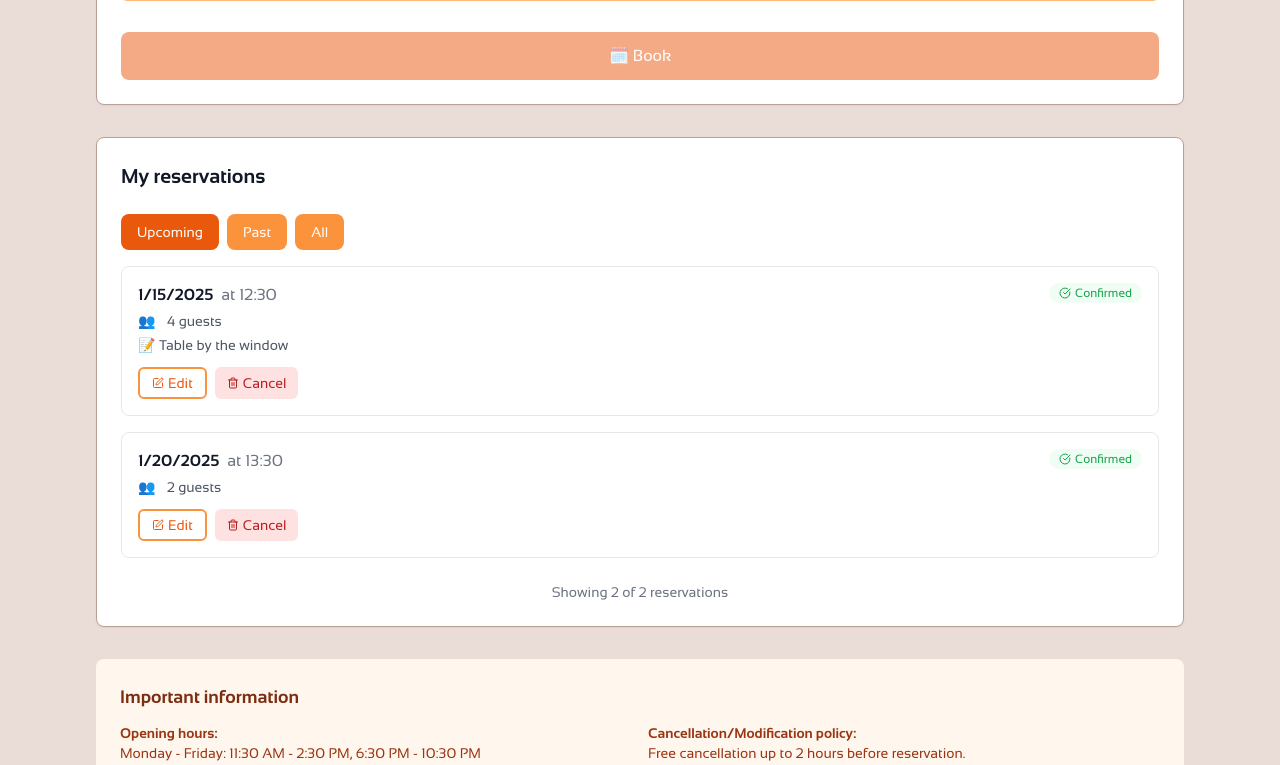
Test: Reservations Component › should cancel edit mode and reset form when cancel button clicked
The image size is (1280, 765).
(page scrolled)
Note: Enter edit mode
What coordinates should you click on to do the following:
click the button "Edit" below "Table by the window"
I would click on:
 (172, 383)
Its box is [138,367,207,399].
(page scrolled)
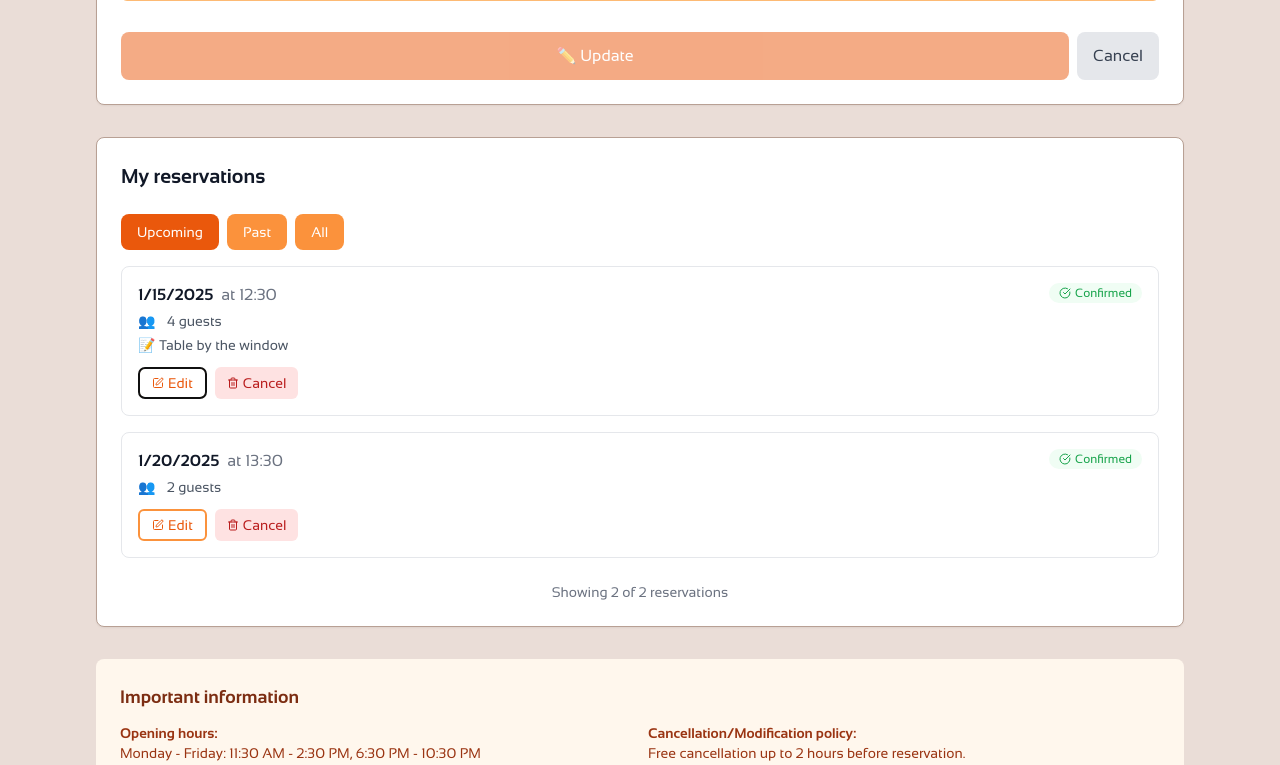
Note: Click cancel - select the form cancel button specifically by class
What coordinates should you click on to do the following:
click the 1st button "Cancel"
I would click on:
 (1118, 56)
Its box is [1077,32,1159,80].
(page scrolled)
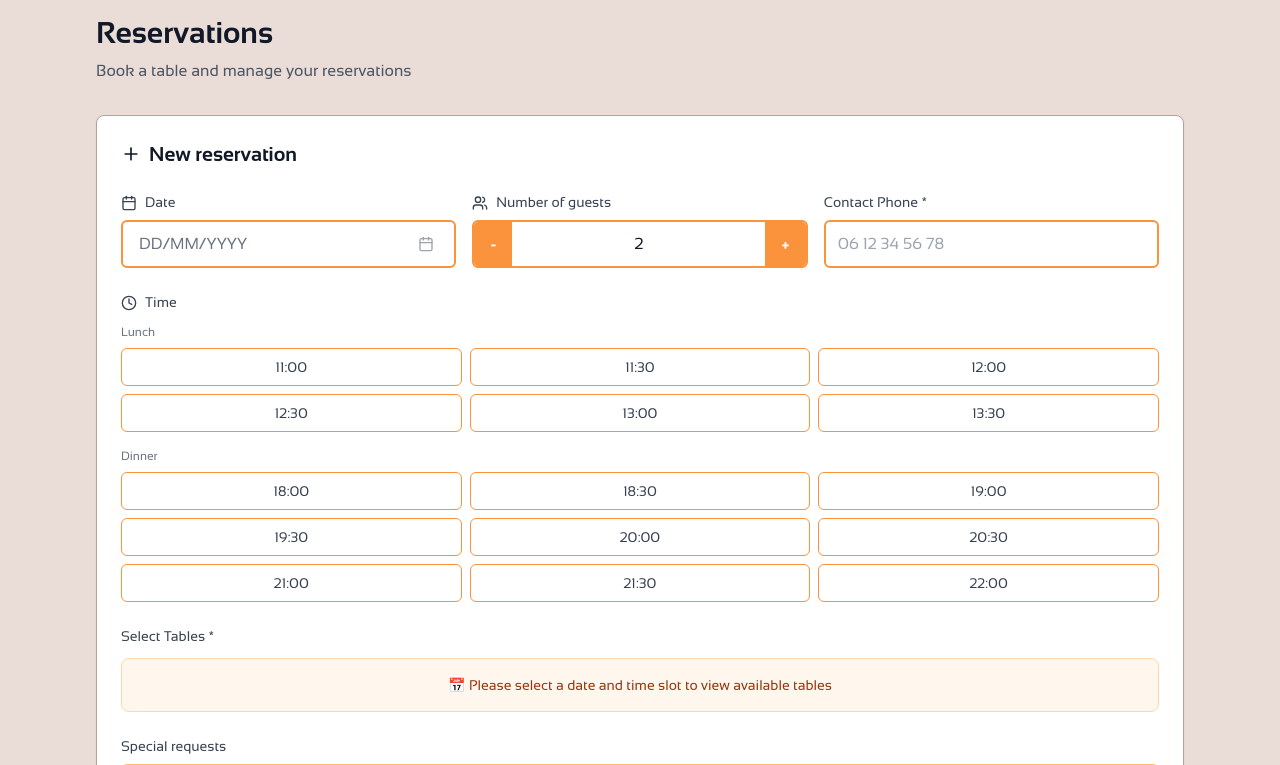
Result: the field with placeholder "DD/MM/YYYY" is empty at [135,232,410,256]
Result: the text "2" is shown at [634,235,643,252]
